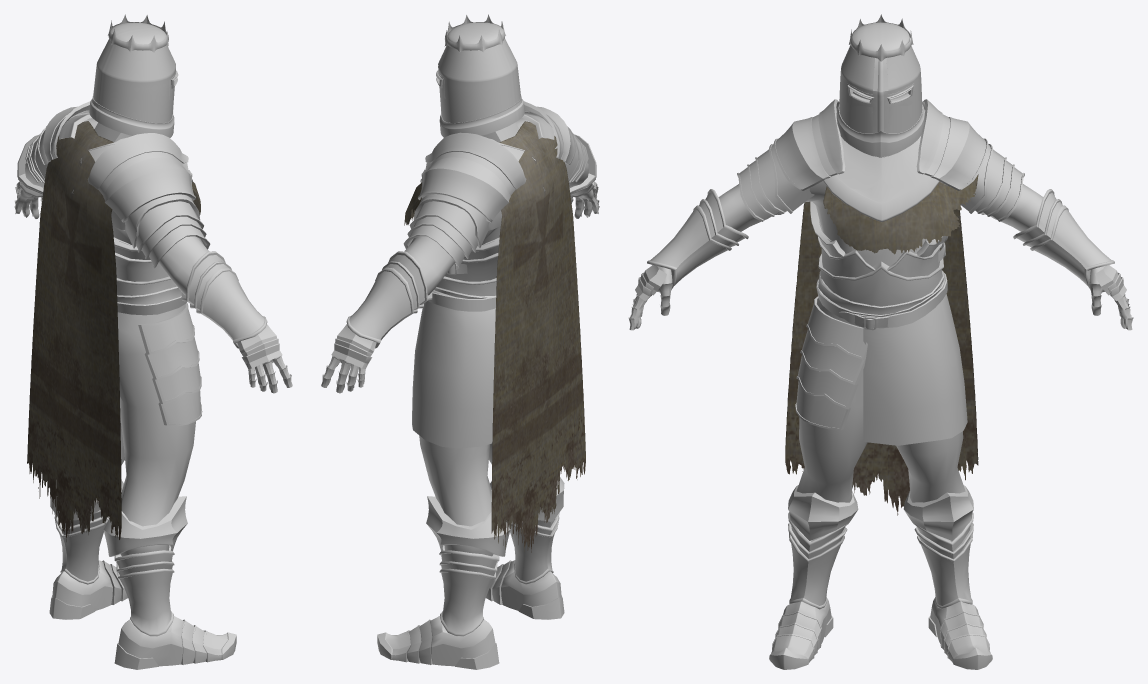
File: ArmourTexturedandHDRISketchfabTest.obj
3 renders of one model, left to right at view 1: azimuth 30°, elevation 25°; view 2: azimuth 150°, elevation 25°; view 3: azimuth 270°, elevation 25°, orthographic. The views are drawn at different scales.
Parts seen in each view (by area): view 1: Cylinder.003_ArmourMain, Cylinder.003_ArmourCapeBack; view 2: Cylinder.003_ArmourMain, Cylinder.003_ArmourCapeBack; view 3: Cylinder.003_ArmourMain, Cylinder.003_ArmourCapeBack, Cylinder.003_ArmourCapeFront.
Part boxes in pixels (x1,y1,x2,y2): Cylinder.003_ArmourMain: (14, 14, 292, 669); Cylinder.003_ArmourCapeBack: (27, 121, 121, 541); Cylinder.003_ArmourMain: (321, 14, 599, 669); Cylinder.003_ArmourCapeBack: (491, 121, 585, 552); Cylinder.003_ArmourMain: (628, 14, 1133, 669); Cylinder.003_ArmourCapeBack: (785, 201, 978, 515); Cylinder.003_ArmourCapeFront: (823, 174, 978, 254).
Size of the model in its own units: 3.92 by 18.77 by 13.87.
